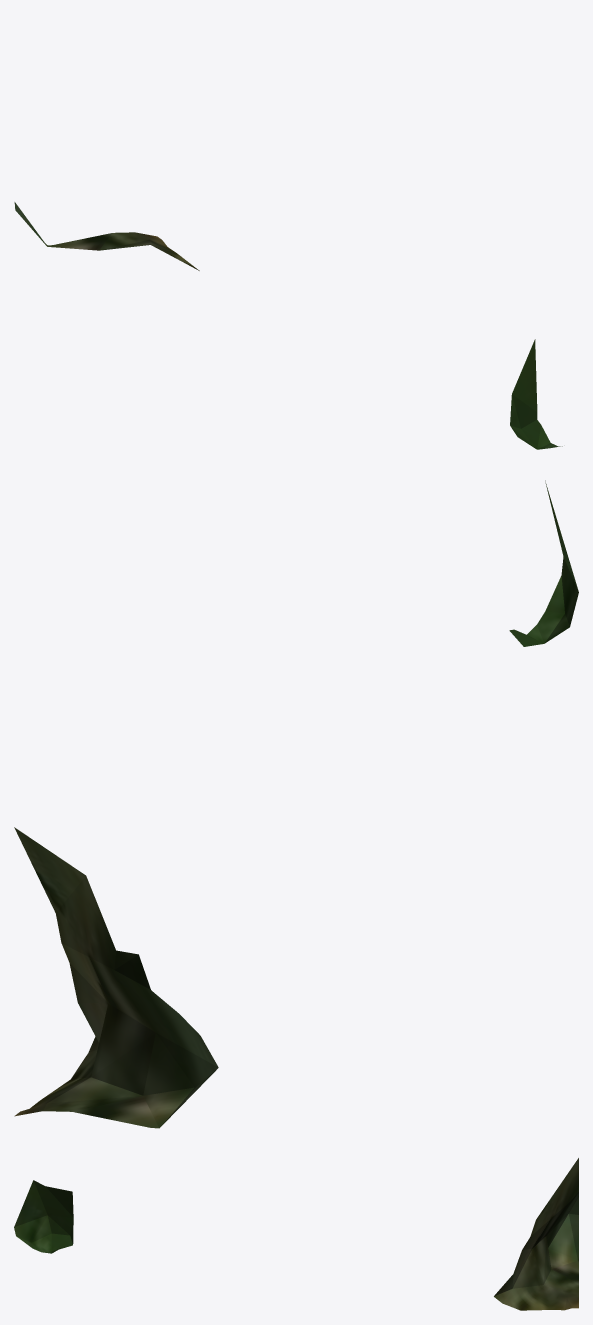
3 views of the same model, one above another, from view 1: azimuth 30°, elevation 25°; view 2: azimuth 150°, elevation 25°; view 3: azimuth 270°, elevation 25° (orthographic). The views are drawn at different scales.
Size of the model in its own units: 0.1349 by 0.1944 by 0.6586.
Materials: 1 (1 with a texture image).
